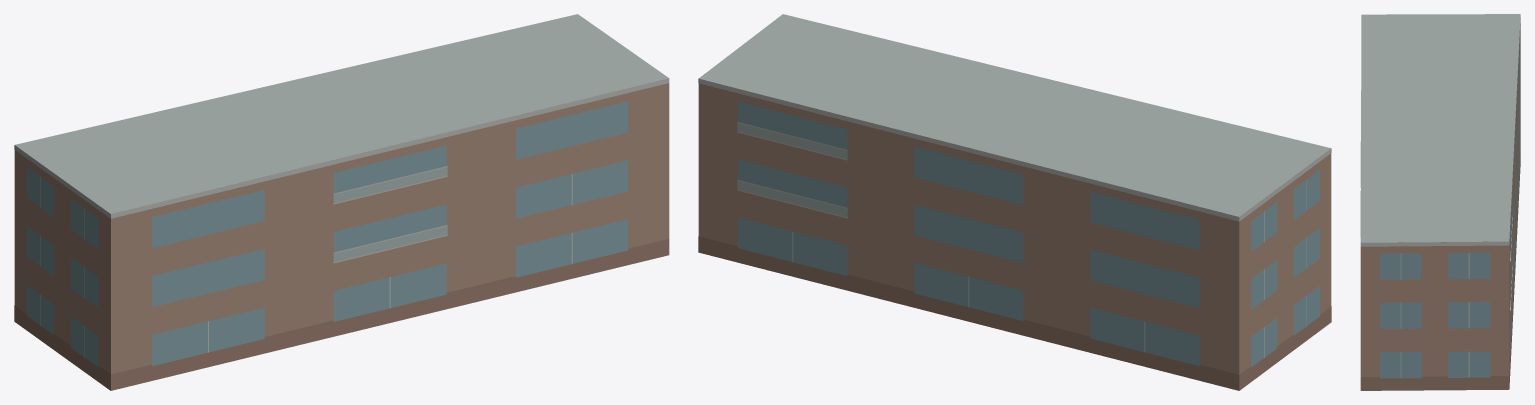
The model's file is survey-upis-32628795.glb.
3 renders of one model, left to right at view 1: azimuth 30°, elevation 25°; view 2: azimuth 150°, elevation 25°; view 3: azimuth 270°, elevation 25°, orthographic. The views are drawn at different scales.
Parts seen in each view (by area): view 1: survey-upis-32628795.tmp; view 2: survey-upis-32628795.tmp; view 3: survey-upis-32628795.tmp.
Boxes of the visible parts, box(x1,y1,x2,y2) form: survey-upis-32628795.tmp: box(14, 14, 669, 390); survey-upis-32628795.tmp: box(698, 14, 1331, 390); survey-upis-32628795.tmp: box(1360, 14, 1520, 390).
Size of the model in its own units: 30.31 by 9.15 by 8.98.
